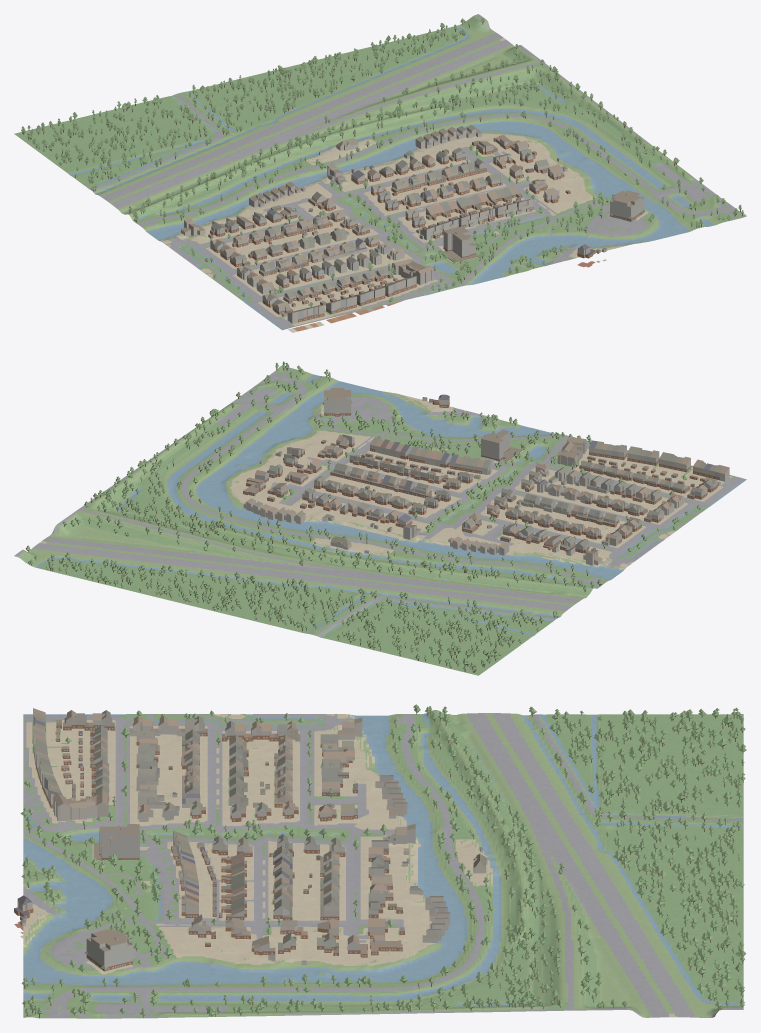
Rendered from bosven-veghel_x334_y810.glb.
3 views of the same model, one above another, from view 1: azimuth 30°, elevation 25°; view 2: azimuth 150°, elevation 25°; view 3: azimuth 270°, elevation 25° (orthographic). The views are drawn at different scales.
Parts seen in each view (by area): view 1: class:green, class:grass, class:road, class:wall, class:tree, class:sand, class:water, class:roof, class:trim, class:trunk; view 2: class:green, class:grass, class:road, class:wall, class:tree, class:sand, class:water, class:roof, class:trim, class:trunk; view 3: class:green, class:road, class:grass, class:sand, class:tree, class:water, class:roof, class:wall, class:trunk, class:trim.
Part boxes in pixels (left/top/right/bottom): class:green: left=14, top=16, right=746, bottom=327; class:grass: left=67, top=15, right=745, bottom=324; class:road: left=90, top=14, right=738, bottom=329; class:wall: left=181, top=127, right=644, bottom=332; class:tree: left=21, top=17, right=743, bottom=305; class:sand: left=160, top=37, right=648, bottom=325; class:water: left=69, top=26, right=714, bottom=330; class:roof: left=181, top=124, right=644, bottom=317; class:trim: left=181, top=130, right=643, bottom=322; class:trunk: left=22, top=22, right=742, bottom=306; class:green: left=20, top=365, right=738, bottom=675; class:grass: left=18, top=366, right=730, bottom=637; class:road: left=14, top=368, right=744, bottom=635; class:wall: left=243, top=389, right=729, bottom=565; class:tree: left=25, top=361, right=700, bottom=671; class:sand: left=39, top=393, right=731, bottom=569; class:water: left=36, top=374, right=746, bottom=637; class:roof: left=243, top=388, right=729, bottom=561; class:trim: left=243, top=397, right=729, bottom=564; class:trunk: left=28, top=367, right=699, bottom=672; class:green: left=23, top=710, right=743, bottom=1018; class:road: left=23, top=713, right=743, bottom=1018; class:grass: left=23, top=710, right=743, bottom=1018; class:sand: left=23, top=714, right=677, bottom=1017; class:tree: left=20, top=704, right=746, bottom=1015; class:water: left=23, top=713, right=743, bottom=1006; class:roof: left=14, top=708, right=487, bottom=961; class:wall: left=14, top=715, right=487, bottom=971; class:trunk: left=24, top=711, right=743, bottom=1018; class:trim: left=14, top=718, right=480, bottom=969.
Bounding box in the file's own units: 505 × 28.54 × 509.
